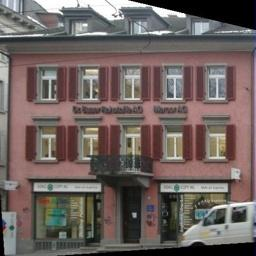building: (5, 7, 254, 238)
